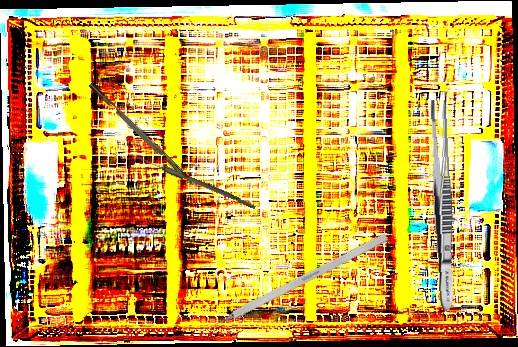Chopper: (88, 77, 203, 191)
Dressing Forceps: (426, 99, 459, 311)
Hook Surgical: (194, 233, 389, 338)
Surgical Spoon: (128, 151, 258, 210)
